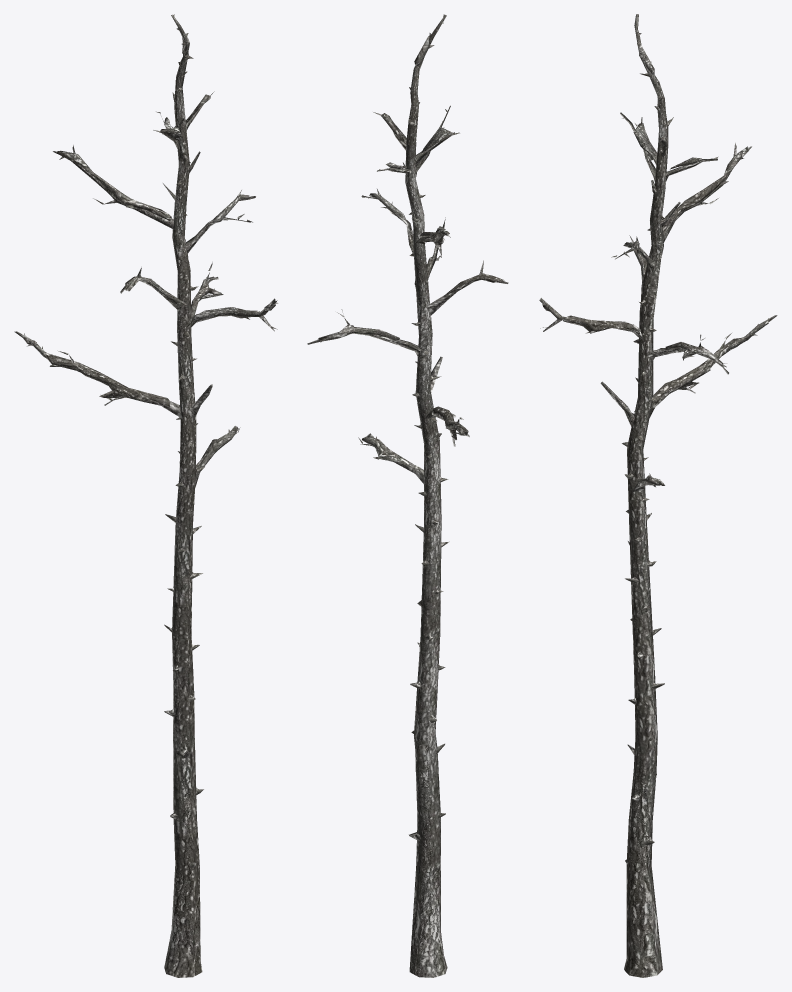
The model's file is pine_dead_snow_d.glb.
3 views of the same model, side by side, from view 1: azimuth 30°, elevation 25°; view 2: azimuth 150°, elevation 25°; view 3: azimuth 270°, elevation 25° (orthographic).
Parts seen in each view (by area): view 1: pine_dead_snow_d_LOD0; view 2: pine_dead_snow_d_LOD0; view 3: pine_dead_snow_d_LOD0.
Part boxes in pixels (x1,y1,x2,y2): pine_dead_snow_d_LOD0: (14,14,277,977); pine_dead_snow_d_LOD0: (307,14,508,977); pine_dead_snow_d_LOD0: (539,14,777,977).
Bounding box in the file's own units: 3.94 × 20.19 × 4.63.
1 material, 1 textured.
